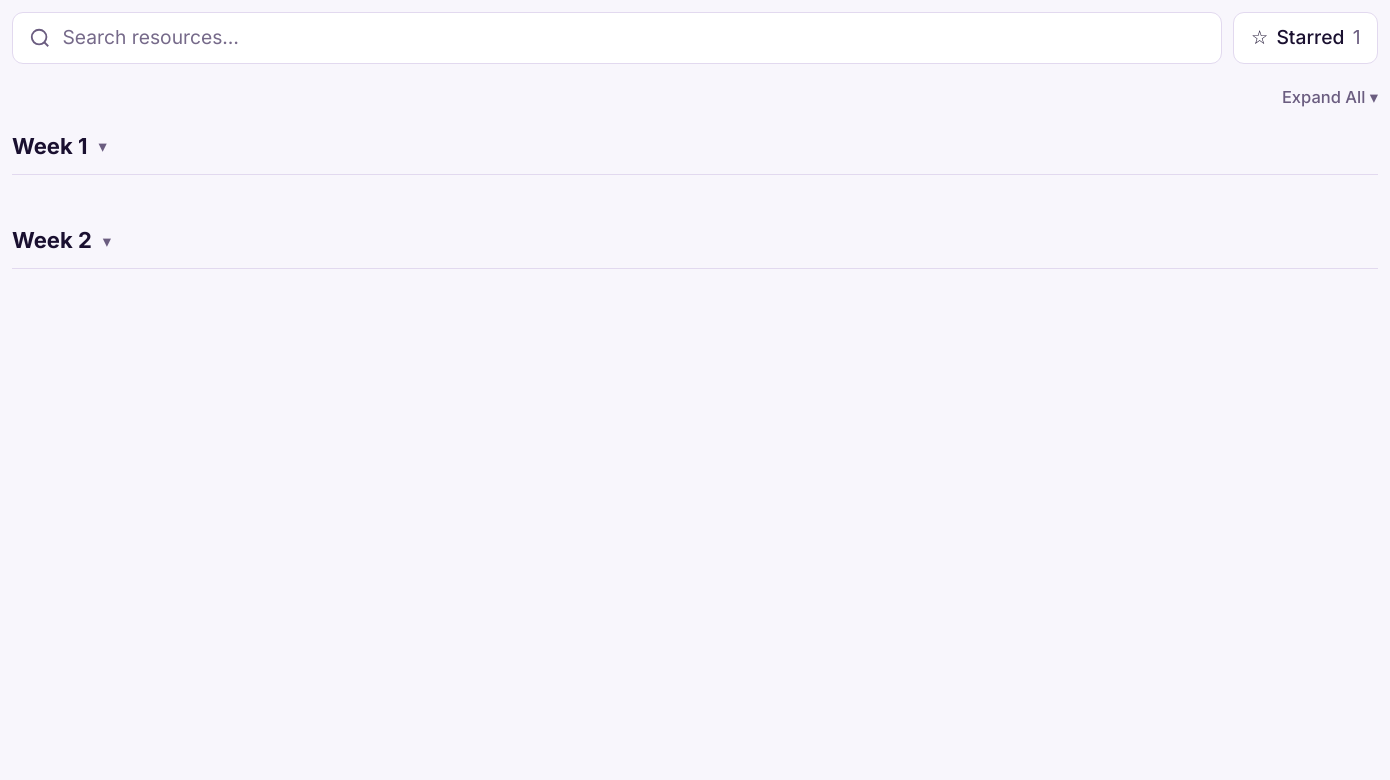
Test: ResourceOutline — Starred filter › shows only starred resources, with a count, and hides weeks that have none
Click the button with aria-label "show only starred resources (1)".
click(1306, 38)  # box [1233,12,1378,64]
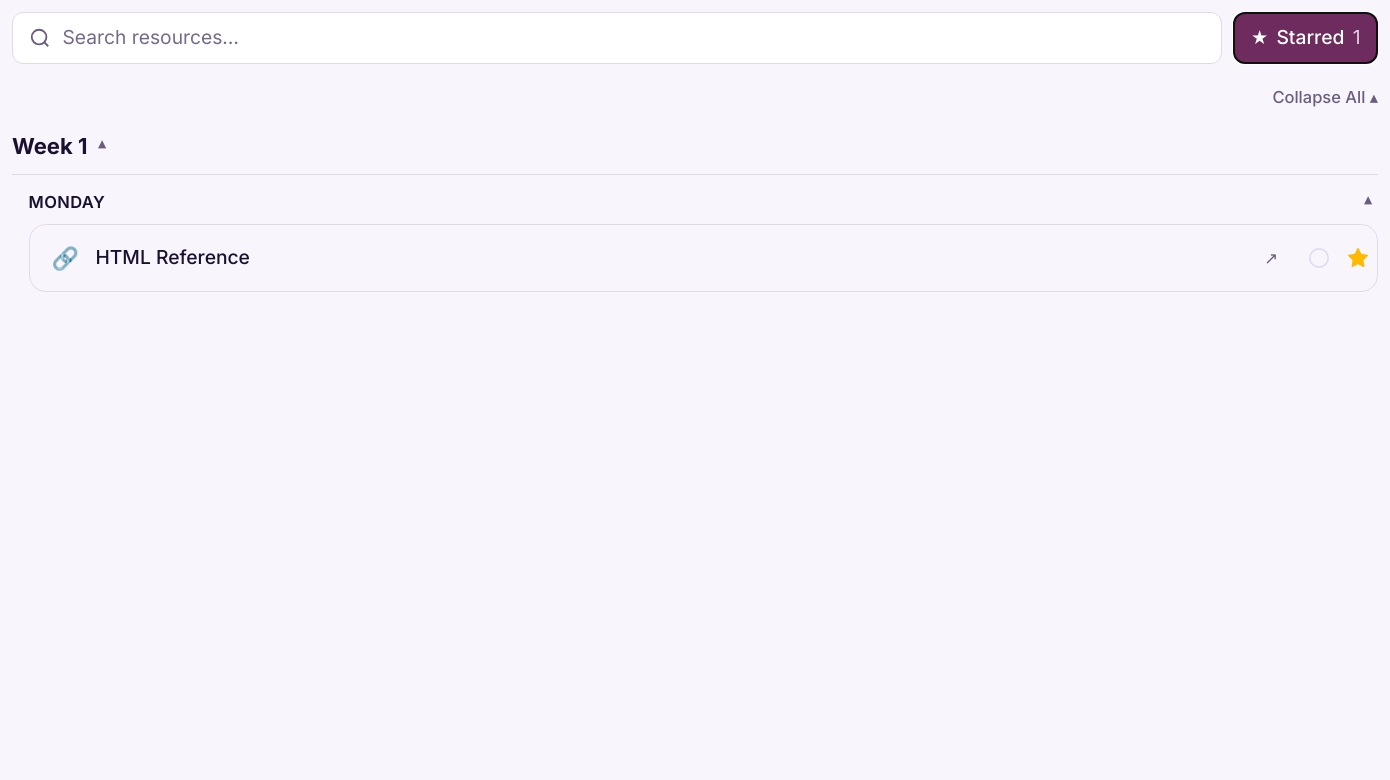
Expected: the text "Notion notes" is not shown
Expected: the text "HTML Reference" is shown, [96,245,250,269]
Expected: the button "Week 2" is gone
Turning it off brings everything back (turning it on expanded every day)
Click the button with aria-label "show only starred resources (1)".
click(1306, 38)  # box [1233,12,1378,64]
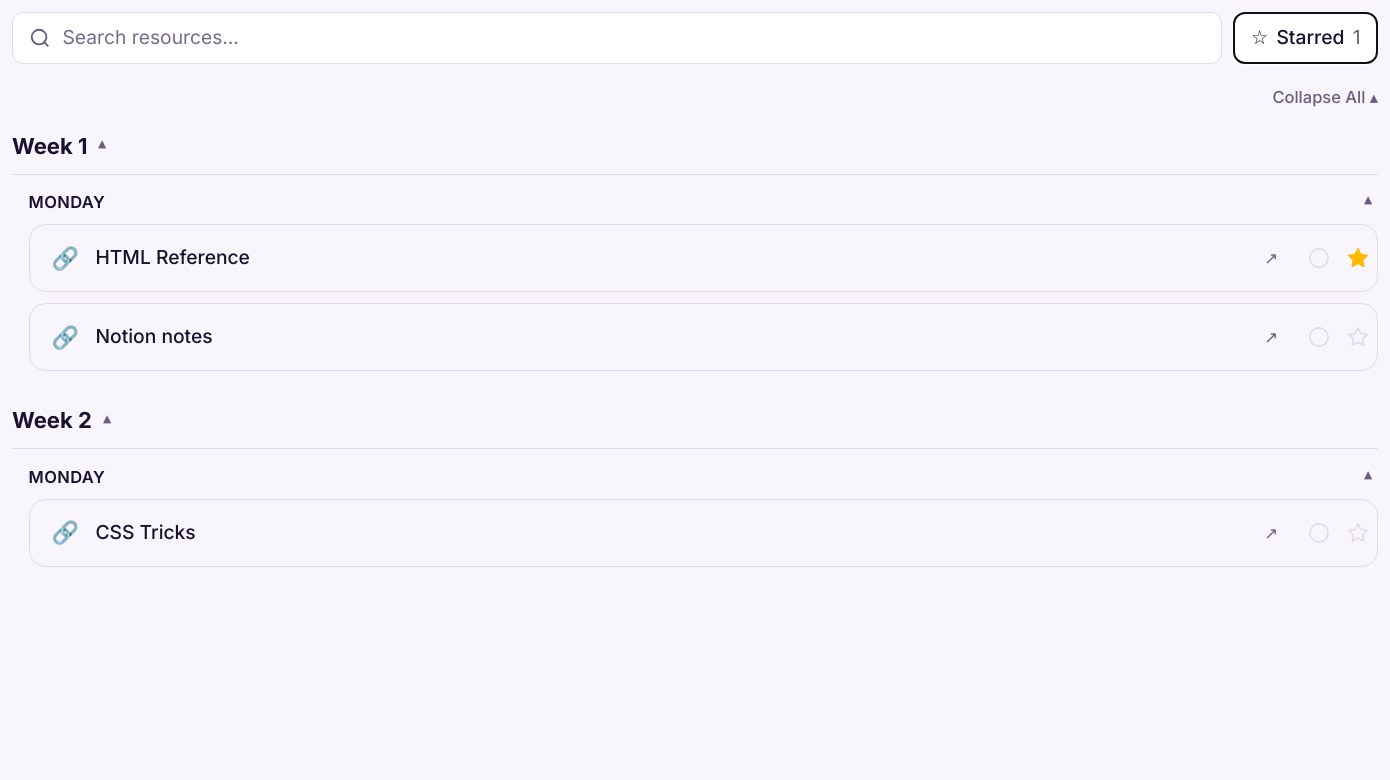
Expected: the text "Notion notes" is shown, [96,324,213,348]
Expected: the text "CSS Tricks" is shown, [96,520,196,544]
